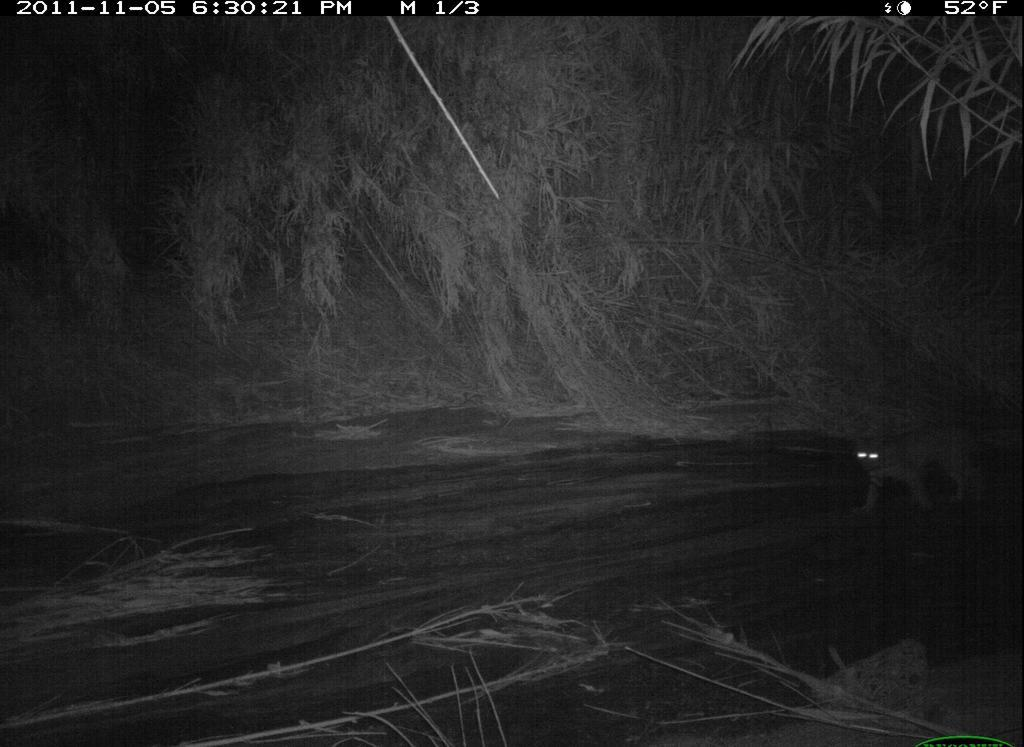bobcat: (845, 410, 1004, 525)
